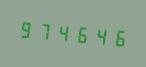four: (54, 18, 71, 46), (90, 21, 107, 49)
nine: (17, 15, 34, 43)
seven: (35, 16, 52, 45)
six: (72, 19, 89, 48), (108, 23, 125, 51)
